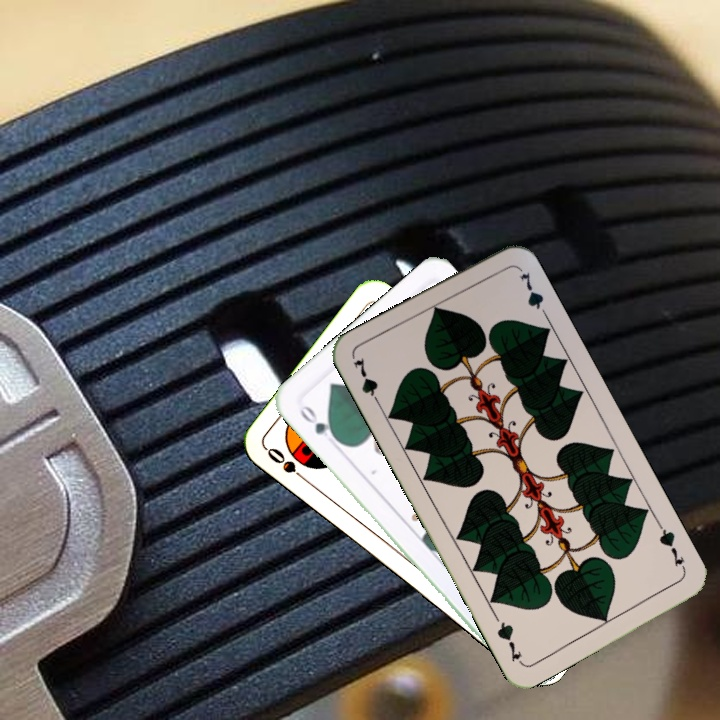G7: (349, 353, 384, 410), (654, 520, 689, 575)
GO: (296, 399, 342, 445)
SO: (263, 443, 313, 487)
